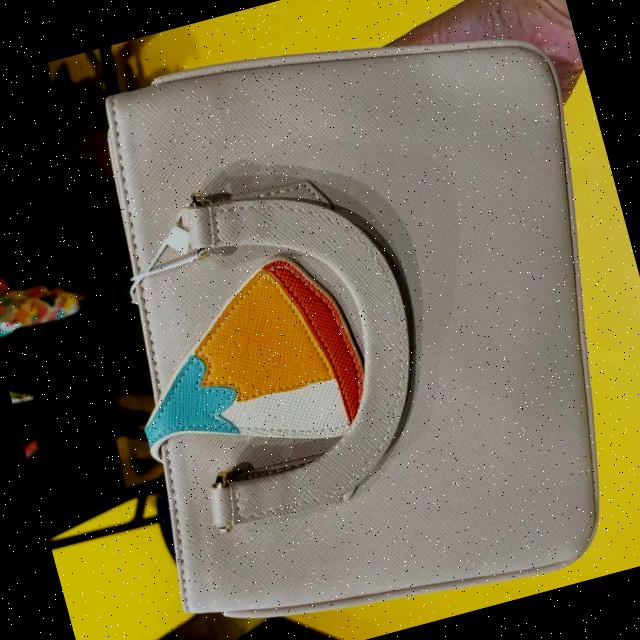Handbag: (38, 0, 640, 640)
